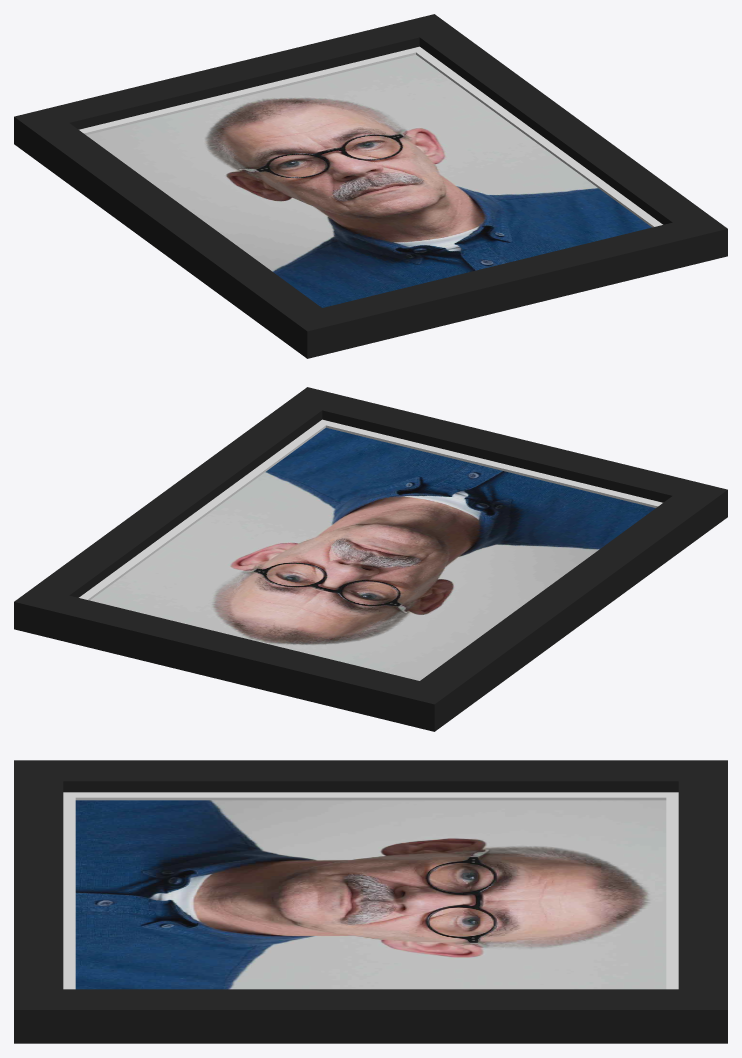
The picture shows the model from 3 angles, top to bottom: view 1: azimuth 30°, elevation 25°; view 2: azimuth 150°, elevation 25°; view 3: azimuth 270°, elevation 25°; orthographic projection. The views are drawn at different scales.
Parts seen in each view (by area): view 1: PhotoPlane.002, BuitenFrame, BinnenFrame; view 2: PhotoPlane.002, BuitenFrame, BinnenFrame; view 3: PhotoPlane.002, BuitenFrame, BinnenFrame.
Boxes of the visible parts, x1,y1,x2,y2 form: PhotoPlane.002: (86,55,651,307); BuitenFrame: (14,14,727,358); BinnenFrame: (79,46,662,227); PhotoPlane.002: (90,428,655,680); BuitenFrame: (14,387,727,731); BinnenFrame: (79,419,662,600); PhotoPlane.002: (75,800,666,989); BuitenFrame: (14,760,727,1043); BinnenFrame: (63,792,678,989).
Size of the model in its own units: 0.48 by 0.03 by 0.58.
3 materials, 1 textured.
